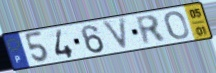4: (54, 27, 75, 60)
5: (23, 30, 51, 65)
6: (79, 23, 105, 54)
O: (163, 10, 191, 41)
R: (134, 14, 169, 47)
V: (100, 16, 131, 53)
